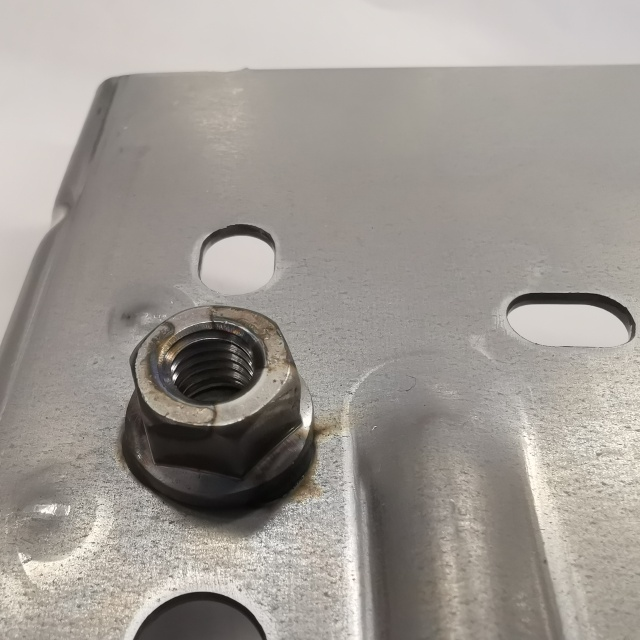dog: (116, 302, 321, 519)
